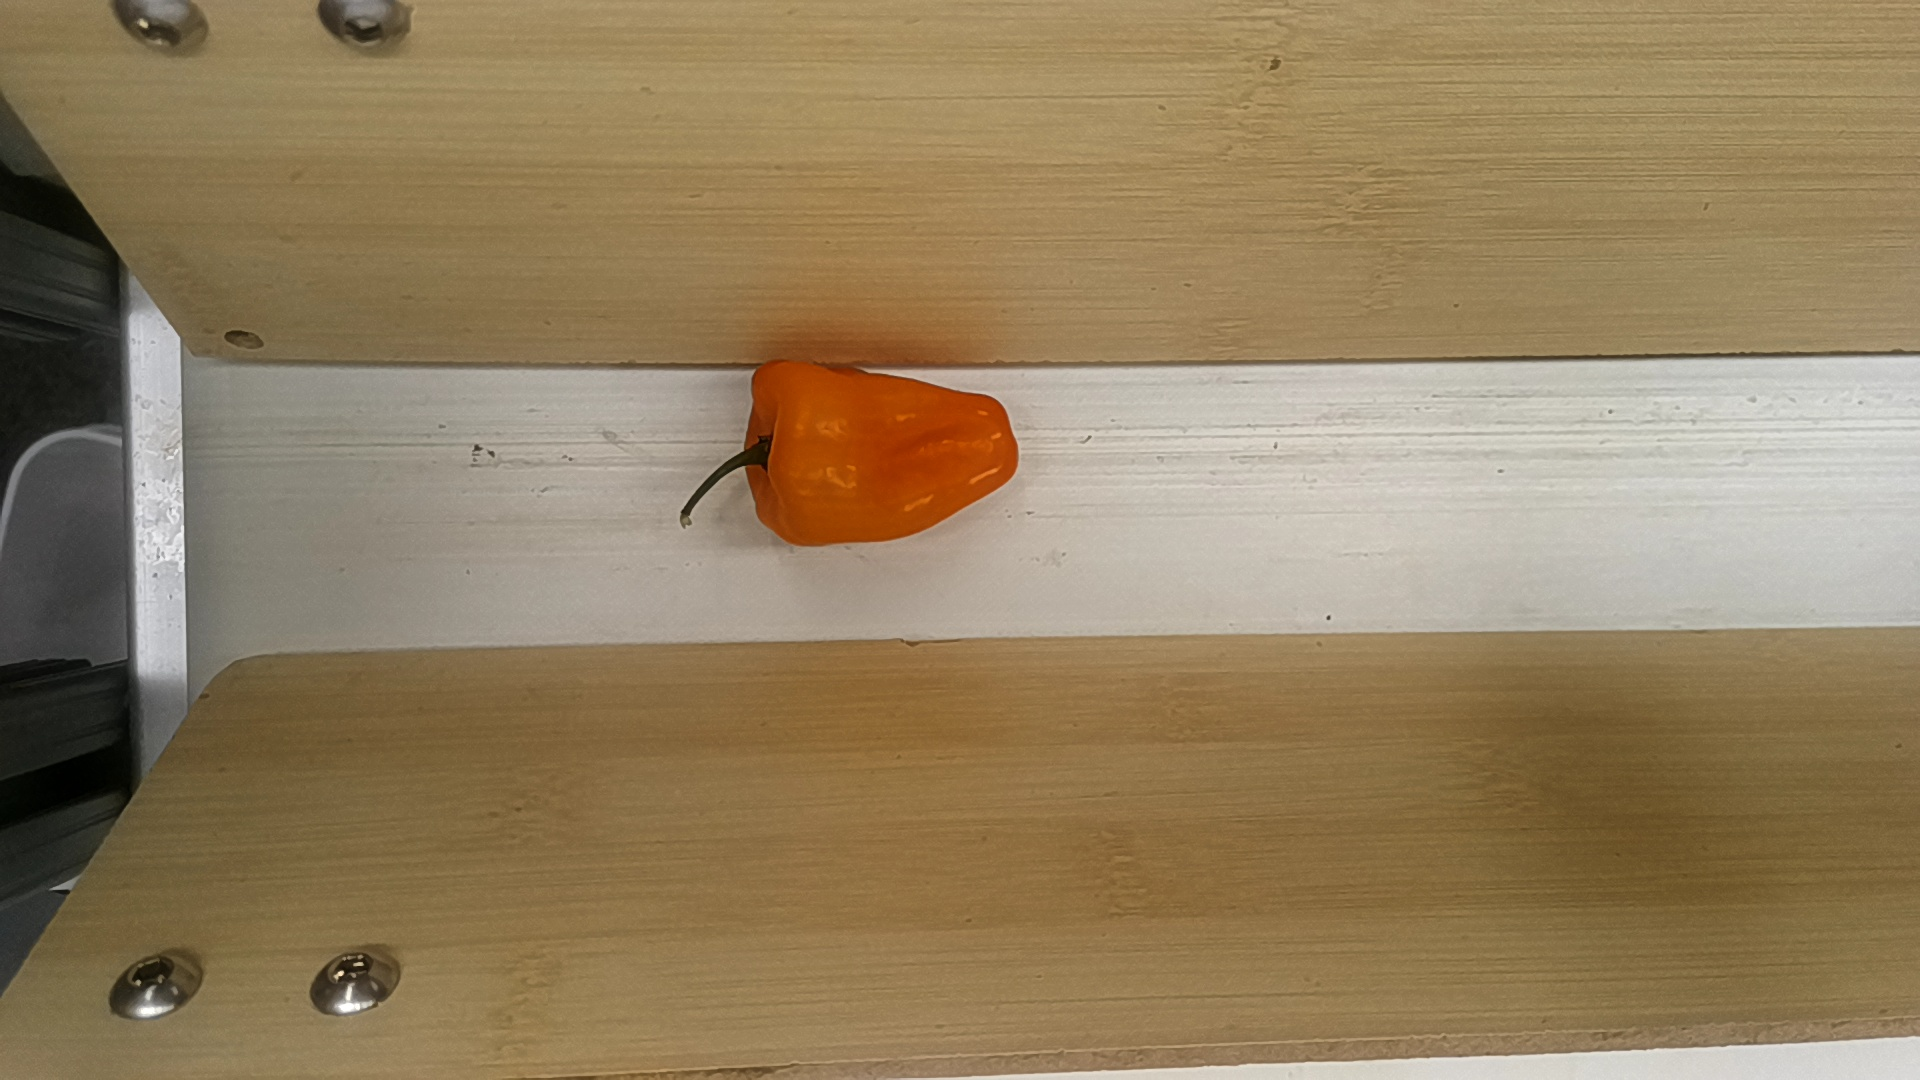Cut Point: (748, 351, 802, 550)
